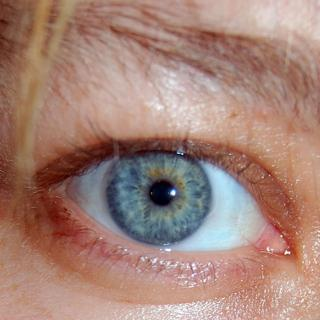pupil: (148, 180, 175, 207)
